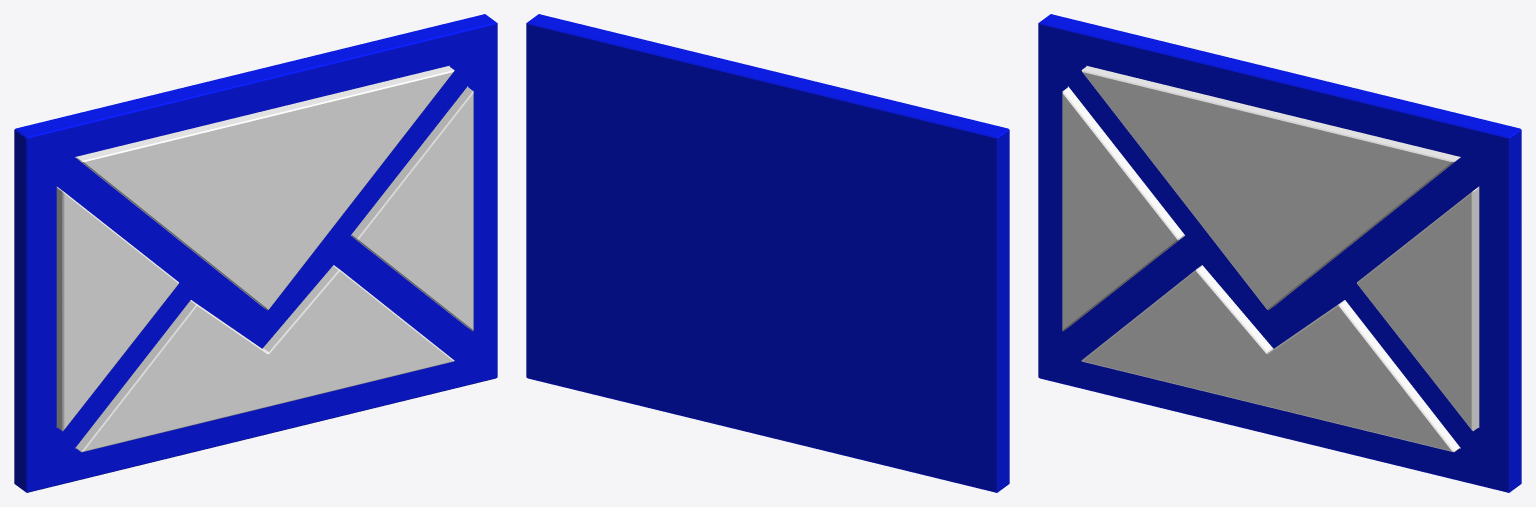
The model's file is Mail.glb.
3 views of the same model, side by side, from view 1: azimuth 30°, elevation 25°; view 2: azimuth 150°, elevation 25°; view 3: azimuth 330°, elevation 25° (orthographic).
Parts seen in each view (by area): view 1: Envelope_Icon_n3d; view 2: Envelope_Icon_n3d; view 3: Envelope_Icon_n3d.
Boxes of the visible parts, left/top/right/bottom form: Envelope_Icon_n3d: left=14, top=14, right=497, bottom=492; Envelope_Icon_n3d: left=526, top=14, right=1009, bottom=492; Envelope_Icon_n3d: left=1038, top=14, right=1521, bottom=492.
Size of the model in its own units: 0.215 by 0.155 by 0.015.
Materials: 1 (1 with a texture image).
